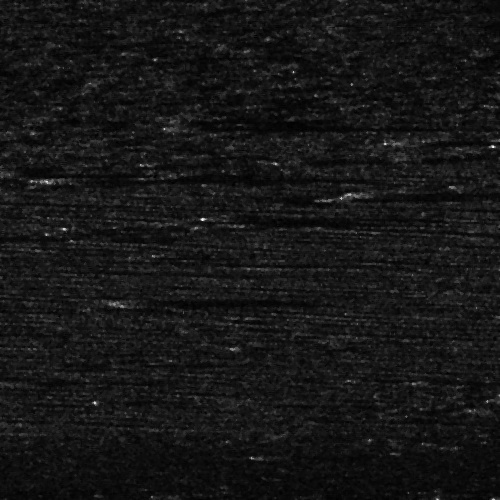object: (404, 136, 467, 145), (155, 122, 196, 131), (474, 406, 500, 411), (491, 490, 500, 499)
shadow: (176, 122, 387, 131), (436, 136, 500, 145), (0, 135, 54, 142)
